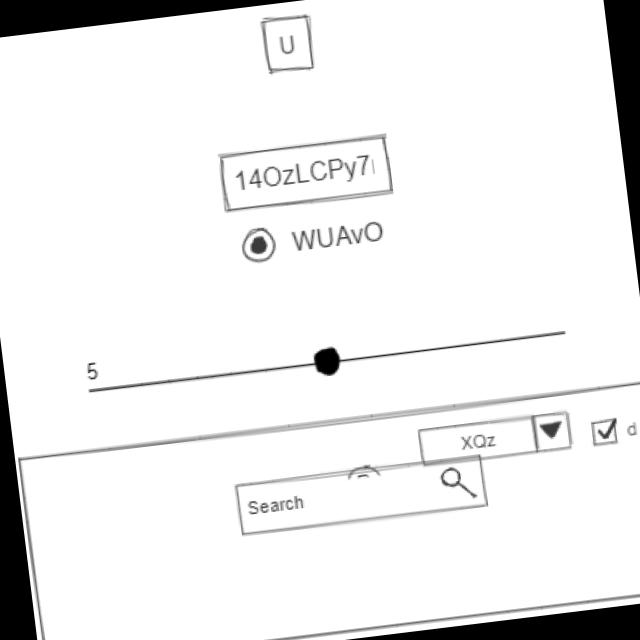button: (215, 129, 401, 218), (257, 10, 321, 79)
checkbox: (587, 413, 640, 448)
container: (15, 375, 640, 640)
radio: (238, 211, 390, 268)
search: (232, 450, 492, 543)
select: (416, 407, 577, 471)
slider: (106, 313, 572, 408)
